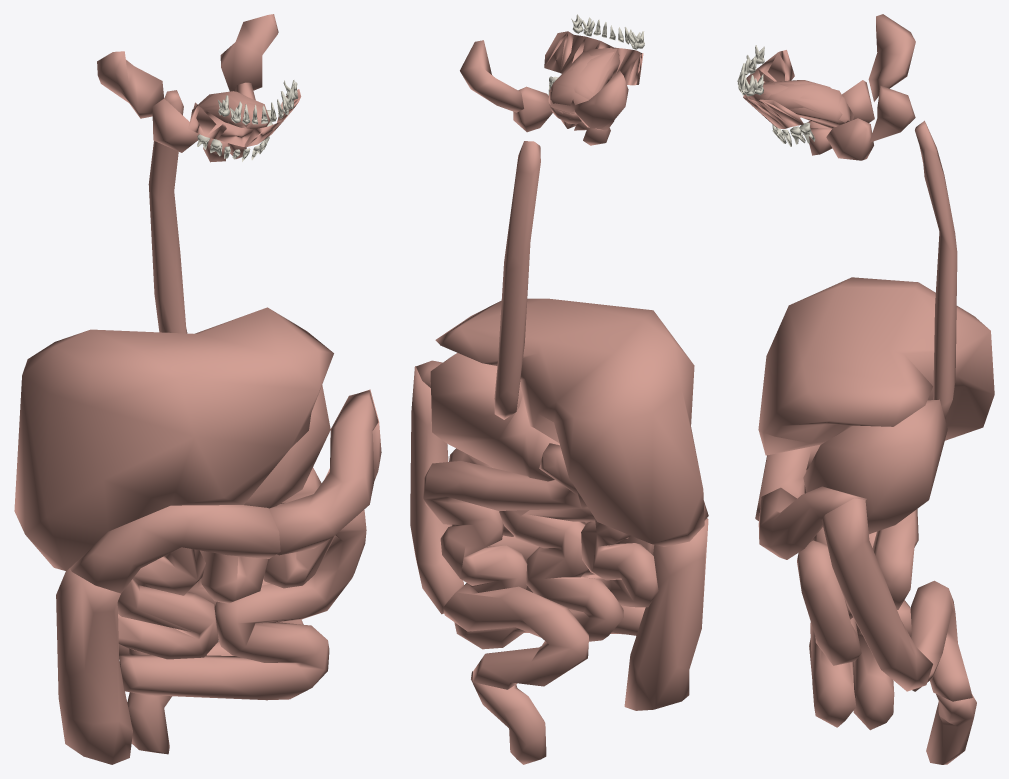
The model's file is pediatric_neonate_female.digestive.LOD3.glb.
The picture shows the model from 3 angles, left to right: view 1: azimuth 30°, elevation 25°; view 2: azimuth 150°, elevation 25°; view 3: azimuth 270°, elevation 25°; orthographic projection. The views are drawn at different scales.
Parts seen in each view (by area): view 1: PEDIATRIC.NEONATE.FEMALE.DIGESTIVE.LIVER, PEDIATRIC.NEONATE.FEMALE.DIGESTIVE.SMALL_INTESTINE_WALL, PEDIATRIC.NEONATE.FEMALE.DIGESTIVE.ASCENDING_COLON_WALL, PEDIATRIC.NEONATE.FEMALE.DIGESTIVE.TRANSVERSE_COLON_WALL.R, PEDIATRIC.NEONATE.FEMALE.DIGESTIVE.TRANSVERSE_COLON_WALL.L, PEDIATRIC.NEONATE.FEMALE.DIGESTIVE.OESOPHAGUS_WALL, PEDIATRIC.NEONATE.FEMALE.DIGESTIVE.SALIVARY_GLANDS.R, PEDIATRIC.NEONATE.FEMALE.DIGESTIVE.STOMACH_WALL, PEDIATRIC.NEONATE.FEMALE.DIGESTIVE.SALIVARY_GLANDS.L, PEDIATRIC.NEONATE.FEMALE.DIGESTIVE.RECTUM_WALL, PEDIATRIC.NEONATE.FEMALE.DIGESTIVE.ORAL_MUCOSA_LIP_AND_CHEEK, PEDIATRIC.NEONATE.FEMALE.DIGESTIVE.DECIDUOUS_CEMENTUM (+4 smaller); view 2: PEDIATRIC.NEONATE.FEMALE.DIGESTIVE.LIVER, PEDIATRIC.NEONATE.FEMALE.DIGESTIVE.SMALL_INTESTINE_WALL, PEDIATRIC.NEONATE.FEMALE.DIGESTIVE.ASCENDING_COLON_WALL, PEDIATRIC.NEONATE.FEMALE.DIGESTIVE.SIGMOID_COLON_WALL, PEDIATRIC.NEONATE.FEMALE.DIGESTIVE.STOMACH_WALL, PEDIATRIC.NEONATE.FEMALE.DIGESTIVE.OESOPHAGUS_WALL, PEDIATRIC.NEONATE.FEMALE.DIGESTIVE.DESCENDING_COLON_WALL, PEDIATRIC.NEONATE.FEMALE.DIGESTIVE.SALIVARY_GLANDS.L, PEDIATRIC.NEONATE.FEMALE.DIGESTIVE.RECTUM_WALL, PEDIATRIC.NEONATE.FEMALE.DIGESTIVE.SALIVARY_GLANDS.R, PEDIATRIC.NEONATE.FEMALE.DIGESTIVE.ORAL_MUCOSA_LIP_AND_CHEEK, PEDIATRIC.NEONATE.FEMALE.DIGESTIVE.TONGUE_UPPER_FOOD (+2 smaller); view 3: PEDIATRIC.NEONATE.FEMALE.DIGESTIVE.LIVER, PEDIATRIC.NEONATE.FEMALE.DIGESTIVE.SMALL_INTESTINE_WALL, PEDIATRIC.NEONATE.FEMALE.DIGESTIVE.STOMACH_WALL, PEDIATRIC.NEONATE.FEMALE.DIGESTIVE.DESCENDING_COLON_WALL, PEDIATRIC.NEONATE.FEMALE.DIGESTIVE.OESOPHAGUS_WALL, PEDIATRIC.NEONATE.FEMALE.DIGESTIVE.SIGMOID_COLON_WALL, PEDIATRIC.NEONATE.FEMALE.DIGESTIVE.TRANSVERSE_COLON_WALL.L, PEDIATRIC.NEONATE.FEMALE.DIGESTIVE.SALIVARY_GLANDS.L, PEDIATRIC.NEONATE.FEMALE.DIGESTIVE.SALIVARY_GLANDS.R, PEDIATRIC.NEONATE.FEMALE.DIGESTIVE.RECTUM_WALL, PEDIATRIC.NEONATE.FEMALE.DIGESTIVE.TRANSVERSE_COLON_WALL.R, PEDIATRIC.NEONATE.FEMALE.DIGESTIVE.ORAL_MUCOSA_LIP_AND_CHEEK (+5 smaller).
Boxes of the visible parts, box(x1,y1,x2,y2) form: PEDIATRIC.NEONATE.FEMALE.DIGESTIVE.LIVER: box(14, 307, 333, 571); PEDIATRIC.NEONATE.FEMALE.DIGESTIVE.SMALL_INTESTINE_WALL: box(117, 468, 366, 700); PEDIATRIC.NEONATE.FEMALE.DIGESTIVE.ASCENDING_COLON_WALL: box(56, 568, 132, 764); PEDIATRIC.NEONATE.FEMALE.DIGESTIVE.TRANSVERSE_COLON_WALL.R: box(70, 505, 280, 593); PEDIATRIC.NEONATE.FEMALE.DIGESTIVE.TRANSVERSE_COLON_WALL.L: box(269, 390, 378, 555); PEDIATRIC.NEONATE.FEMALE.DIGESTIVE.OESOPHAGUS_WALL: box(148, 90, 187, 333); PEDIATRIC.NEONATE.FEMALE.DIGESTIVE.SALIVARY_GLANDS.R: box(97, 51, 227, 162); PEDIATRIC.NEONATE.FEMALE.DIGESTIVE.STOMACH_WALL: box(244, 385, 330, 508); PEDIATRIC.NEONATE.FEMALE.DIGESTIVE.SALIVARY_GLANDS.L: box(220, 14, 278, 158); PEDIATRIC.NEONATE.FEMALE.DIGESTIVE.RECTUM_WALL: box(127, 692, 171, 754); PEDIATRIC.NEONATE.FEMALE.DIGESTIVE.ORAL_MUCOSA_LIP_AND_CHEEK: box(188, 89, 301, 147); PEDIATRIC.NEONATE.FEMALE.DIGESTIVE.DECIDUOUS_CEMENTUM: box(197, 80, 297, 161); PEDIATRIC.NEONATE.FEMALE.DIGESTIVE.LIVER: box(435, 298, 704, 546); PEDIATRIC.NEONATE.FEMALE.DIGESTIVE.SMALL_INTESTINE_WALL: box(423, 443, 658, 649); PEDIATRIC.NEONATE.FEMALE.DIGESTIVE.ASCENDING_COLON_WALL: box(624, 518, 708, 710); PEDIATRIC.NEONATE.FEMALE.DIGESTIVE.SIGMOID_COLON_WALL: box(443, 583, 588, 689); PEDIATRIC.NEONATE.FEMALE.DIGESTIVE.STOMACH_WALL: box(430, 353, 559, 481); PEDIATRIC.NEONATE.FEMALE.DIGESTIVE.OESOPHAGUS_WALL: box(494, 141, 540, 419); PEDIATRIC.NEONATE.FEMALE.DIGESTIVE.DESCENDING_COLON_WALL: box(410, 366, 464, 614); PEDIATRIC.NEONATE.FEMALE.DIGESTIVE.SALIVARY_GLANDS.L: box(460, 40, 576, 132); PEDIATRIC.NEONATE.FEMALE.DIGESTIVE.RECTUM_WALL: box(471, 671, 546, 764); PEDIATRIC.NEONATE.FEMALE.DIGESTIVE.SALIVARY_GLANDS.R: box(574, 70, 628, 145); PEDIATRIC.NEONATE.FEMALE.DIGESTIVE.ORAL_MUCOSA_LIP_AND_CHEEK: box(544, 31, 643, 85); PEDIATRIC.NEONATE.FEMALE.DIGESTIVE.TONGUE_UPPER_FOOD: box(550, 47, 615, 113); PEDIATRIC.NEONATE.FEMALE.DIGESTIVE.LIVER: box(758, 277, 994, 455); PEDIATRIC.NEONATE.FEMALE.DIGESTIVE.SMALL_INTESTINE_WALL: box(797, 485, 918, 730); PEDIATRIC.NEONATE.FEMALE.DIGESTIVE.STOMACH_WALL: box(803, 399, 947, 534); PEDIATRIC.NEONATE.FEMALE.DIGESTIVE.DESCENDING_COLON_WALL: box(821, 498, 932, 691); PEDIATRIC.NEONATE.FEMALE.DIGESTIVE.OESOPHAGUS_WALL: box(915, 120, 957, 418); PEDIATRIC.NEONATE.FEMALE.DIGESTIVE.SIGMOID_COLON_WALL: box(910, 580, 972, 701); PEDIATRIC.NEONATE.FEMALE.DIGESTIVE.TRANSVERSE_COLON_WALL.L: box(758, 486, 866, 559); PEDIATRIC.NEONATE.FEMALE.DIGESTIVE.SALIVARY_GLANDS.L: box(809, 85, 915, 160); PEDIATRIC.NEONATE.FEMALE.DIGESTIVE.SALIVARY_GLANDS.R: box(807, 14, 915, 128); PEDIATRIC.NEONATE.FEMALE.DIGESTIVE.RECTUM_WALL: box(926, 694, 976, 764); PEDIATRIC.NEONATE.FEMALE.DIGESTIVE.TRANSVERSE_COLON_WALL.R: box(755, 444, 820, 520); PEDIATRIC.NEONATE.FEMALE.DIGESTIVE.ORAL_MUCOSA_LIP_AND_CHEEK: box(743, 50, 803, 128).
Size of the model in its own units: 0.1167 by 0.254 by 0.0827.
